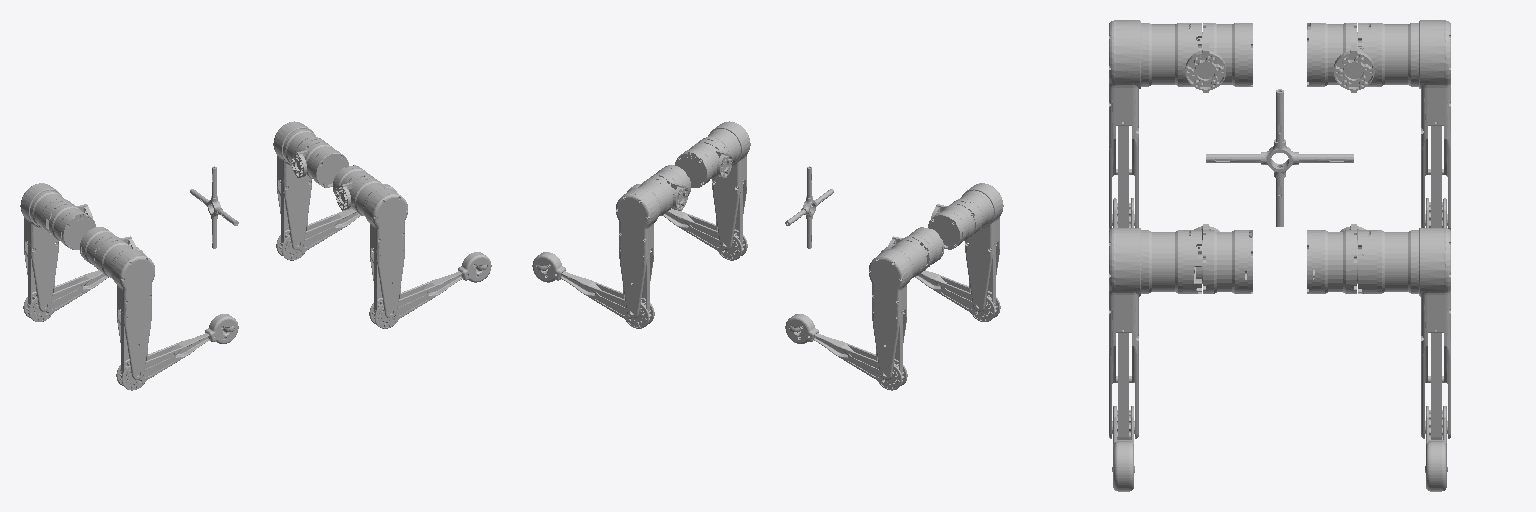
URDF robot description (CatModel2):
<?xml version="1.0" ?>

<robot name="CatModel2">

<mujoco>
    <compiler discardvisual="false"/>
</mujoco>

  <link name="cross">
    <inertial>
      <origin rpy="0 0 0" xyz="0 0 0"/>
      <mass value="0.10303"/>
      <inertia ixx="130343.98E-09" ixy="0.00" ixz="0.00" iyy="65743.25E-09" iyz="0.00" izz="65743.25E-09"/>
    </inertial>
    <visual>
      <origin rpy="0 0 0" xyz="0 0 0"/>
      <geometry>
        <mesh filename="package://CatModel2_description/meshes/cross.STL"/>
      </geometry>
      <material name="">
        <color rgba="0.752941176470588 0.752941176470588 0.752941176470588 1"/>
      </material>
    </visual>
    <collision>
      <origin rpy="0 0 0" xyz="0 0 0"/>
      <geometry>
        <box size="0.011 0.03 0.13"/>
      </geometry>
    </collision>
    <collision>
      <origin rpy="1.5707963267948966 0 0" xyz="0 0 0"/>
      <geometry>
        <box size="0.011 0.03 0.13"/>
      </geometry>
    </collision>    
  </link>
  
  <link name="chest">
    <inertial>
      <origin rpy="0 0 0" xyz="110.71E-03 0.08E-03 -0.04E-03"/>
      <mass value="2.10511"/>
      <inertia ixx="8222410.49E-09" ixy="1816.97E-09" ixz="7419.74E-09" iyy="8511204.33E-09" iyz="-757.05E-09" izz="11159274.40E-09"/>
    </inertial>
    <visual>
      <origin rpy="0 0 0" xyz="0 0 0"/>
      <geometry>
        <mesh filename="package://CatModel2_description/meshes/chest.STL"/>
      </geometry>
      <material name="">
        <color rgba="0.752941176470588 0.752941176470588 0.752941176470588 1"/>
      </material>
    </visual>
    <collision>
      <origin rpy="0 0 0" xyz="0.12 0 0"/>
      <geometry>
        <box size="0.128 0.195 0.148"/>
      </geometry>
    </collision>
  </link>
  
  <joint name="Base_joint" type="revolute">
    <origin rpy="0 0 0" xyz="0 0 0"/>
    <parent link="cross"/>
    <child link="chest"/>
    <axis xyz="0 0 1"/>
    <!-- <dynamics damping="0.1" friction="0.1"/> -->
    <limit effort="100" lower="-0.75" upper="0.75" velocity="18"/>
  </joint>

  <link name="LF_hip">
    <inertial>
      <origin rpy="0 0 0" xyz="-3.06E-03 -15.19E-03 0.23E-03"/>
      <mass value="0.31877"/>
      <inertia ixx="150729.95E-09" ixy="-14678.35E-09" ixz="-199.51E-09" iyy="169042.16E-09" iyz="1282.75E-09" izz="175802.90E-09"/>
    </inertial>
    <visual>
      <origin rpy="0 0 0" xyz="0 0 0"/>
      <geometry>
        <mesh filename="package://CatModel2_description/meshes/LF_hip.STL"/>
      </geometry>
      <material name="">
        <color rgba="0.752941176470588 0.752941176470588 0.752941176470588 1"/>
      </material>
    </visual>
    <!-- <collision>
      <origin rpy="1.5707963267948966 0 0" xyz="0 -0.01 0"/>
      <geometry>
        <cylinder length="0.07" radius="0.028"/>
      </geometry>
    </collision> -->
  </link>
  <joint name="LF_HAA" type="revolute">
    <origin rpy="0 0 0" xyz="0.215 0.0649999999999998 0"/>
    <parent link="chest"/>
    <child link="LF_hip"/>
    <axis xyz="1 0 0"/>
    <limit effort="33.5" lower="-0.785" upper="0.785" velocity="18"/>
  </joint>
  <link name="LF_thigh">
    <inertial>
      <origin rpy="0 0 0" xyz="-0.02E-03 -23.50E-03 -19.36E-03"/>
      <mass value="0.57287"/>
      <inertia ixx="1472878.77E-09" ixy="197.96E-09" ixz="237.97E-09" iyy="1312622.06E-09" iyz="260046.65E-09" izz="443726.89E-09"/>
    </inertial>
    <visual>
      <origin rpy="0 0 0" xyz="0 0 0"/>
      <geometry>
        <mesh filename="package://CatModel2_description/meshes/LF_thigh.STL"/>
      </geometry>
      <material name="">
        <color rgba="0.752941176470588 0.752941176470588 0.752941176470588 1"/>
      </material>
    </visual>
    <!-- <collision>
      <origin rpy="0 1.5707963267948966 0" xyz="0 0 -0.07"/>
      <geometry>
        <box size="0.18 0.025 0.03"/>
      </geometry>
    </collision>
    <collision>
      <origin rpy="1.5707963267948966 0 0" xyz="0 -0.015 0"/>
      <geometry>
        <cylinder length="0.053" radius="0.028"/>
      </geometry>
    </collision> -->
  </link>
  <joint name="LF_HFE" type="revolute">
    <origin rpy="0 0 0" xyz="0 0.072 0"/>
    <parent link="LF_hip"/>
    <child link="LF_thigh"/>
    <axis xyz="0 1 0"/>
    <limit effort="33.5" lower="-1.05" upper="3.14" velocity="18"/>
  </joint>
  <link name="LF_calf">
    <inertial>
      <origin rpy="0 0 0" xyz="0.0 0.0 -65.28E-03"/>
      <mass value="0.09192"/>
      <inertia ixx="414588.70E-09" ixy="0.00" ixz="0.00E-09" iyy="418880.65E-09" iyz="18.08E-09" izz="10670.32E-09"/>
    </inertial>
    <visual>
      <origin rpy="0 0 0" xyz="0 0 0"/>
      <geometry>
        <mesh filename="package://CatModel2_description/meshes/LF_calf.STL"/>
      </geometry>
      <material name="">
        <color rgba="0.752941176470588 0.752941176470588 0.752941176470588 1"/>
      </material>
    </visual>
    <collision>
      <origin rpy="0 1.5707963267948966 0" xyz="0.0 0 -0.05"/>
      <geometry>
        <box size="0.14 0.018 0.025"/>
      </geometry>
    </collision>
  </link>
  <joint name="LF_KFE" type="revolute">
    <origin rpy="0 0 0" xyz="0 0 -0.164"/>
    <parent link="LF_thigh"/>
    <child link="LF_calf"/>
    <axis xyz="0 1 0"/>
    <limit effort="33.5" lower="-2.70" upper="-0.92" velocity="18"/>
  </joint>
  <link name="LF_FOOT">
    <visual>
      <origin rpy="0 0 0" xyz="0 0 0"/>
      <geometry>
        <sphere radius="0.01"/>
      </geometry>
      <material name="">
        <color rgba="0.752941176470588 0.752941176470588 0.752941176470588 1"/>
      </material>
    </visual>
    <collision>
      <origin rpy="0 0 0" xyz="0 0 0.01"/>
      <geometry>
        <sphere radius="0.02"/>
      </geometry>
    </collision>
    <inertial>
      <mass value="0.06"/>
      <inertia ixx="9.600000000000001e-06" ixy="0.0" ixz="0.0" iyy="9.600000000000001e-06" iyz="0.0" izz="9.600000000000001e-06"/>
    </inertial>
  </link>
  <joint name="LF_foot_fixed" type="fixed">
    <origin rpy="0 0 0" xyz="-0.001 0 -0.165"/>
    <parent link="LF_calf"/>
    <child link="LF_FOOT"/>
  </joint>
  <link name="RF_hip">
    <inertial>
      <origin rpy="0 0 0" xyz="-3.06E-03 15.19E-03 -0.23E-03"/>
      <mass value="0.31877"/>
      <inertia ixx="150729.95E-09" ixy="-14678.35E-09" ixz="199.51E-09" iyy="169042.16E-09" iyz="1285.75E-09" izz="175802.90E-09"/>
    </inertial>
    <visual>
      <origin rpy="0 0 0" xyz="0 0 0"/>
      <geometry>
        <mesh filename="package://CatModel2_description/meshes/RF_hip.STL"/>
      </geometry>
      <material name="">
        <color rgba="0.752941176470588 0.752941176470588 0.752941176470588 1"/>
      </material>
    </visual>
    <!-- <collision>
      <origin rpy="1.5707963267948966 0 0" xyz="0 0.01 0"/>
      <geometry>
        <cylinder length="0.07" radius="0.028"/>
      </geometry>
    </collision> -->
  </link>
  <joint name="RF_HAA" type="revolute">
    <origin rpy="0 0 0" xyz="0.215 -0.0650000000000001 0"/>
    <parent link="chest"/>
    <child link="RF_hip"/>
    <axis xyz="1 0 0"/>
    <limit effort="33.5" lower="-0.785" upper="0.785" velocity="18"/>
  </joint>
  <link name="RF_thigh">
    <inertial>
      <origin rpy="0 0 0" xyz="0.02E-03 23.50E-03 -19.36E-03"/>
      <mass value="0.57287"/>
      <inertia ixx="1472878.77E-09" ixy="197.96E-09" ixz="-237.91E-09" iyy="1312622.06E-09" iyz="-260046.65E-09" izz="443726.89E-09"/>
    </inertial>
    <visual>
      <origin rpy="0 0 0" xyz="0 0 0"/>
      <geometry>
        <mesh filename="package://CatModel2_description/meshes/RF_thigh.STL"/>
      </geometry>
      <material name="">
        <color rgba="0.752941176470588 0.752941176470588 0.752941176470588 1"/>
      </material>
    </visual>
    <!-- <collision>
      <origin rpy="0 1.5707963267948966 0" xyz="0 0 -0.07"/>
      <geometry>
        <box size="0.18 0.025 0.03"/>
      </geometry>
    </collision>
    <collision>
      <origin rpy="1.5707963267948966 0 0" xyz="0 0.015 0"/>
      <geometry>
        <cylinder length="0.053" radius="0.028"/>
      </geometry>
    </collision> -->
  </link>
  <joint name="RF_HFE" type="revolute">
    <origin rpy="0 0 0" xyz="0 -0.072 0"/>
    <parent link="RF_hip"/>
    <child link="RF_thigh"/>
    <axis xyz="0 1 0"/>
    <limit effort="33.5" lower="-1.05" upper="3.14" velocity="18"/>
  </joint>
  <link name="RF_calf">
    <inertial>
      <origin rpy="0 0 0" xyz="0.0 0.0 -65.28E-03"/>
      <mass value="0.09192"/>
      <inertia ixx="414588.70E-09" ixy="0.00" ixz="0.00E-09" iyy="418880.65E-09" iyz="-18.08E-09" izz="10670.32E-09"/>
    </inertial>
    <visual>
      <origin rpy="0 0 0" xyz="0 0 0"/>
      <geometry>
        <mesh filename="package://CatModel2_description/meshes/RF_calf.STL"/>
      </geometry>
      <material name="">
        <color rgba="0.752941176470588 0.752941176470588 0.752941176470588 1"/>
      </material>
    </visual>
    <collision>
      <origin rpy="0 1.5707963267948966 0" xyz="0.0 0 -0.05"/>
      <geometry>
        <box size="0.14 0.018 0.025"/>
      </geometry>
    </collision>
  </link>
  <joint name="RF_KFE" type="revolute">
    <origin rpy="0 0 0" xyz="0 0 -0.164"/>
    <parent link="RF_thigh"/>
    <child link="RF_calf"/>
    <axis xyz="0 1 0"/>
    <limit effort="33.5" lower="-2.70" upper="-0.92" velocity="18"/>
  </joint>
  <link name="RF_FOOT">
    <visual>
      <origin rpy="0 0 0" xyz="0 0 0"/>
      <geometry>
        <sphere radius="0.01"/>
      </geometry>
      <material name="">
        <color rgba="0.752941176470588 0.752941176470588 0.752941176470588 1"/>
      </material>
    </visual>
    <collision>
      <origin rpy="0 0 0" xyz="0 0 0.01"/>
      <geometry>
        <sphere radius="0.02"/>
      </geometry>
    </collision>
    <inertial>
      <mass value="0.06"/>
      <inertia ixx="9.600000000000001e-06" ixy="0.0" ixz="0.0" iyy="9.600000000000001e-06" iyz="0.0" izz="9.600000000000001e-06"/>
    </inertial>
  </link>
  <joint name="RF_foot_fixed" type="fixed">
    <origin rpy="0 0 0" xyz="-0.001 0 -0.165"/>
    <parent link="RF_calf"/>
    <child link="RF_FOOT"/>
  </joint>

    <link name="base">
    <inertial>
      <origin rpy="0 0 0" xyz="-110.92E-03 0.01E-03 -0.04E-03"/>
      <mass value="2.09468"/>
      <inertia ixx="8220668.86E-09" ixy="102.56E-09" ixz="-7414.23E-09" iyy="7271012.52E-09" iyz="-34.10E-09" izz="12352941.58E-09"/>
    </inertial>
    <visual>
      <origin rpy="0 0 0" xyz="0 0 0"/>
      <geometry>
        <mesh filename="package://CatModel2_description/meshes/base.STL"/>
      </geometry>
      <material name="">
        <color rgba="0.752941176470588 0.752941176470588 0.752941176470588 1"/>
      </material>
    </visual>
    <collision>
      <origin rpy="0 0 0" xyz="-0.12 0 0"/>
      <geometry>
        <box size="0.128 0.195 0.148"/>
      </geometry>
    </collision>
  </link>

  <joint name="Chest_joint" type="revolute">
    <origin rpy="0 0 0" xyz="0 0 0"/>
    <parent link="cross"/>
    <child link="base"/>
    <axis xyz="0 -1 0"/>
    <!-- <dynamics damping="0.1" friction="0.1"/> -->
    <limit effort="100" lower="-0.75" upper="0.75" velocity="18"/>
  </joint>
  
  <link name="LH_hip">
    <inertial>
      <origin rpy="0 0 0" xyz="-3.06E-03 -15.19E-03 0.23E-03"/>
      <mass value="0.31877"/>
      <inertia ixx="150729.95E-09" ixy="14678.35E-09" ixz="-199.51E-09" iyy="169042.16E-09" iyz="1282.75E-09" izz="175802.90E-09"/>
    </inertial>
    <visual>
      <origin rpy="0 0 0" xyz="0 0 0"/>
      <geometry>
        <mesh filename="package://CatModel2_description/meshes/LH_hip.STL"/>
      </geometry>
      <material name="">
        <color rgba="0.752941176470588 0.752941176470588 0.752941176470588 1"/>
      </material>
    </visual>
    <!-- <collision>
      <origin rpy="1.5707963267948966 0 0" xyz="0 -0.01 0"/>
      <geometry>
        <cylinder length="0.07" radius="0.028"/>
      </geometry>
    </collision> -->
  </link>
  <joint name="LH_HAA" type="revolute">
    <origin rpy="0 0 0" xyz="-0.215 0.0650000000000001 0"/>
    <parent link="base"/>
    <child link="LH_hip"/>
    <axis xyz="1 0 0"/>
    <limit effort="33.5" lower="-0.785" upper="0.785" velocity="18"/>
  </joint>
  <link name="LH_thigh">
    <inertial>
      <origin rpy="0 0 0" xyz="-0.02E-03 -23.50E-03 -19.36E-03"/>
      <mass value="0.57287"/>
      <!-- <inertia ixx="1472878.77E-09" ixy="197.96E-09" ixz="-237.97E-09" iyy="1312622.06E-09" iyz="-260046.65E-09" izz="443726.89E-09"/> -->
      <inertia ixx="1472878.77E-09" ixy="197.96E-09" ixz="237.97E-09" iyy="1312622.06E-09" iyz="260046.65E-09" izz="443726.89E-09"/>
    </inertial>
    <visual>
      <origin rpy="0 0 0" xyz="0 0 0"/>
      <geometry>
        <mesh filename="package://CatModel2_description/meshes/LH_thigh.STL"/>
      </geometry>
      <material name="">
        <color rgba="0.752941176470588 0.752941176470588 0.752941176470588 1"/>
      </material>
    </visual>
    <!-- <collision>
      <origin rpy="0 1.5707963267948966 0" xyz="0 0 -0.07"/>
      <geometry>
        <box size="0.18 0.025 0.03"/>
      </geometry>
    </collision>
    <collision>
      <origin rpy="1.5707963267948966 0 0" xyz="0 -0.015 0"/>
      <geometry>
        <cylinder length="0.053" radius="0.028"/>
      </geometry>
    </collision> -->
  </link>
  <joint name="LH_HFE" type="revolute">
    <origin rpy="0 0 0" xyz="0 0.072 0"/>
    <parent link="LH_hip"/>
    <child link="LH_thigh"/>
    <axis xyz="0 1 0"/>
    <limit effort="33.5" lower="-1.05" upper="3.14" velocity="18"/>
  </joint>
  <link name="LH_calf">
    <inertial>
      <origin rpy="0 0 0" xyz="0.0 0.0 -65.28E-03"/>
      <mass value="0.09192"/>
      <inertia ixx="414588.70E-09" ixy="0.00" ixz="0.00" iyy="418880.65E-09" iyz="-18.08E-09" izz="10670.32E-09"/>
    </inertial>
    <visual>
      <origin rpy="0 0 0" xyz="0 0 0"/>
      <geometry>
        <mesh filename="package://CatModel2_description/meshes/LH_calf.STL"/>
      </geometry>
      <material name="">
        <color rgba="0.752941176470588 0.752941176470588 0.752941176470588 1"/>
      </material>
    </visual>
    <collision>
      <origin rpy="0 1.5707963267948966 0" xyz="0.0 0 -0.05"/>
      <geometry>
        <box size="0.14 0.018 0.025"/>
      </geometry>
    </collision>
  </link>
  <joint name="LH_KFE" type="revolute">
    <origin rpy="0 0 0" xyz="0 0 -0.164"/>
    <parent link="LH_thigh"/>
    <child link="LH_calf"/>
    <axis xyz="0 1 0"/>
    <limit effort="33.5" lower="-2.70" upper="-0.92" velocity="18"/>
  </joint>
  <link name="LH_FOOT">
    <visual>
      <origin rpy="0 0 0" xyz="0 0 0"/>
      <geometry>
        <sphere radius="0.01"/>
      </geometry>
      <material name="">
        <color rgba="0.752941176470588 0.752941176470588 0.752941176470588 1"/>
      </material>
    </visual>
    <collision>
      <origin rpy="0 0 0" xyz="0 0 0.01"/>
      <geometry>
        <sphere radius="0.02"/>
      </geometry>
    </collision>
    <inertial>
      <mass value="0.06"/>
      <inertia ixx="9.600000000000001e-06" ixy="0.0" ixz="0.0" iyy="9.600000000000001e-06" iyz="0.0" izz="9.600000000000001e-06"/>
    </inertial>
  </link>
  <joint name="LH_foot_fixed" type="fixed">
    <origin rpy="0 0 0" xyz="-0.001 0 -0.165"/>
    <parent link="LH_calf"/>
    <child link="LH_FOOT"/>
  </joint>
  <link name="RH_hip">
    <inertial>
      <origin rpy="0 0 0" xyz="3.06E-03 15.19E-03 0.23E-03"/>
      <mass value="0.31877"/>
      <inertia ixx="150729.95E-09" ixy="14678.35E-09" ixz="199.51E-09" iyy="169042.16E-09" iyz="-1282.75E-09" izz="175802.90E-09"/>
    </inertial>
    <visual>
      <origin rpy="0 0 0" xyz="0 0 0"/>
      <geometry>
        <mesh filename="package://CatModel2_description/meshes/RH_hip.STL"/>
      </geometry>
      <material name="">
        <color rgba="0.752941176470588 0.752941176470588 0.752941176470588 1"/>
      </material>
    </visual>
    <!-- <collision>
      <origin rpy="1.5707963267948966 0 0" xyz="0 0.01 0"/>
      <geometry>
        <cylinder length="0.07" radius="0.028"/>
      </geometry>
    </collision> -->
  </link>
  <joint name="RH_HAA" type="revolute">
    <origin rpy="0 0 0" xyz="-0.215 -0.065 0"/>
    <parent link="base"/>
    <child link="RH_hip"/>
    <axis xyz="1 0 0"/>
    <limit effort="33.5" lower="-0.785" upper="0.785" velocity="18"/>
  </joint>
  <link name="RH_thigh">
    <inertial>
      <origin rpy="0 0 0" xyz="0.02E-03 23.50E-03 -19.36E-03"/>
      <mass value="0.57287"/>
      <inertia ixx="1472878.77E-09" ixy="197.96E-09" ixz="-237.97E-09" iyy="1312622.06e-09" iyz="-260046.65E-09" izz="443726.89E-09"/>
    </inertial>
    <visual>
      <origin rpy="0 0 0" xyz="0 0 0"/>
      <geometry>
        <mesh filename="package://CatModel2_description/meshes/RH_thigh.STL"/>
      </geometry>
      <material name="">
        <color rgba="0.752941176470588 0.752941176470588 0.752941176470588 1"/>
      </material>
    </visual>
    <!-- <collision>
      <origin rpy="0 1.5707963267948966 0" xyz="0 0 -0.07"/>
      <geometry>
        <box size="0.18 0.025 0.03"/>
      </geometry>
    </collision>
    <collision>
      <origin rpy="1.5707963267948966 0 0" xyz="0 0.015 0"/>
      <geometry>
        <cylinder length="0.053" radius="0.028"/>
      </geometry>
    </collision> -->
  </link>
  <joint name="RH_HFE" type="revolute">
    <origin rpy="0 0 0" xyz="0 -0.072 0"/>
    <parent link="RH_hip"/>
    <child link="RH_thigh"/>
    <axis xyz="0 1 0"/>
    <limit effort="33.5" lower="-1.05" upper="3.14" velocity="18"/>
  </joint>
  <link name="RH_calf">
    <inertial>
      <origin rpy="0 0 0" xyz="0.0 0.0 -65.28E-03"/>
      <mass value="0.09192"/>
      <inertia ixx="414588.70E-09" ixy="0.00" ixz="0.00" iyy="418880.65E-09" iyz="-18.08E-09" izz="10670.32E-09"/>
    </inertial>
    <visual>
      <origin rpy="0 0 0" xyz="0 0 0"/>
      <geometry>
        <mesh filename="package://CatModel2_description/meshes/RH_calf.STL"/>
      </geometry>
      <material name="">
        <color rgba="0.752941176470588 0.752941176470588 0.752941176470588 1"/>
      </material>
    </visual>
    <collision>
      <origin rpy="0 1.5707963267948966 0" xyz="0.0 0 -0.05"/>
      <geometry>
        <box size="0.14 0.018 0.025"/>
      </geometry>
    </collision>
  </link>
  <joint name="RH_KFE" type="revolute">
    <origin rpy="0 0 0" xyz="0 0 -0.164"/>
    <parent link="RH_thigh"/>
    <child link="RH_calf"/>
    <axis xyz="0 1 0"/>
    <limit effort="33.5" lower="-2.70" upper="-0.92" velocity="18"/>
  </joint>
  <link name="RH_FOOT">
    <visual>
      <origin rpy="0 0 0" xyz="0 0 0"/>
      <geometry>
        <sphere radius="0.01"/>
      </geometry>
      <material name="">
        <color rgba="0.752941176470588 0.752941176470588 0.752941176470588 1"/>
      </material>
    </visual>
    <collision>
      <origin rpy="0 0 0" xyz="0 0 0.01"/>
      <geometry>
        <sphere radius="0.02"/>
      </geometry>
    </collision>
    <inertial>
      <mass value="0.06"/>
      <inertia ixx="9.600000000000001e-06" ixy="0.0" ixz="0.0" iyy="9.600000000000001e-06" iyz="0.0" izz="9.600000000000001e-06"/>
    </inertial>
  </link>
  <joint name="RH_foot_fixed" type="fixed">
    <origin rpy="0 0 0" xyz="-0.001 0 -0.165"/>
    <parent link="RH_calf"/>
    <child link="RH_FOOT"/>
  </joint>

</robot>

--- Facts derived from the render (not from the file) ---
Views: 3 orthographic renders of the robot side by side, from view 1: azimuth 30°, elevation 25°; view 2: azimuth 150°, elevation 25°; view 3: azimuth 270°, elevation 25°.
Model CatModel2 with 19 links and 18 joints (14 revolute, 4 fixed), rooted at cross, posed all joints at 0 but 4 set to mid-range because 0 is outside their limits (LF_KFE = -1.81, RF_KFE = -1.81, LH_KFE = -1.81, RH_KFE = -1.81).
Visible links, largest first — view 1: RH_thigh, RF_thigh, LH_thigh, LF_thigh, RF_calf, RH_calf, LF_hip, LF_calf, LH_calf, LH_hip, RF_hip, RH_hip (+1 smaller); view 2: LH_thigh, LF_thigh, RH_thigh, RF_thigh, LF_calf, LH_calf, RF_hip, RF_calf, RH_calf, RH_hip, LF_hip, LH_hip (+1 smaller); view 3: LF_thigh, RF_thigh, RH_thigh, LH_thigh, LH_hip, RH_hip, RF_hip, LF_hip, cross, LF_calf, RF_calf.
Link boxes in pixels (x1=…): RH_thigh: x1=95, y1=238, x2=154, y2=379; RF_thigh: x1=349, y1=176, x2=407, y2=317; LH_thigh: x1=20, y1=183, x2=73, y2=311; LF_thigh: x1=273, y1=121, x2=327, y2=249; RF_calf: x1=369, y1=252, x2=491, y2=328; RH_calf: x1=116, y1=314, x2=238, y2=390; LF_hip: x1=291, y1=142, x2=348, y2=187; LF_calf: x1=276, y1=184, x2=396, y2=260; LH_calf: x1=23, y1=247, x2=144, y2=321; LH_hip: x1=49, y1=204, x2=95, y2=249; RF_hip: x1=333, y1=165, x2=373, y2=210; RH_hip: x1=80, y1=227, x2=136, y2=269; LH_thigh: x1=869, y1=238, x2=927, y2=379; LF_thigh: x1=616, y1=176, x2=674, y2=317; RH_thigh: x1=950, y1=183, x2=1003, y2=311; RF_thigh: x1=696, y1=121, x2=750, y2=249; LF_calf: x1=532, y1=252, x2=654, y2=328; LH_calf: x1=785, y1=314, x2=907, y2=390; RF_hip: x1=675, y1=142, x2=732, y2=187; RF_calf: x1=627, y1=184, x2=747, y2=260; RH_calf: x1=879, y1=247, x2=1000, y2=321; RH_hip: x1=928, y1=204, x2=974, y2=249; LF_hip: x1=651, y1=165, x2=690, y2=210; LH_hip: x1=887, y1=227, x2=943, y2=269; LF_thigh: x1=1358, y1=228, x2=1450, y2=439; RF_thigh: x1=1109, y1=228, x2=1201, y2=439; RH_thigh: x1=1109, y1=20, x2=1201, y2=229; LH_thigh: x1=1358, y1=20, x2=1450, y2=229; LH_hip: x1=1307, y1=23, x2=1374, y2=92; RH_hip: x1=1185, y1=23, x2=1252, y2=92; RF_hip: x1=1194, y1=224, x2=1252, y2=293; LF_hip: x1=1307, y1=224, x2=1365, y2=293; cross: x1=1206, y1=89, x2=1353, y2=226; LF_calf: x1=1426, y1=406, x2=1446, y2=491; RF_calf: x1=1113, y1=406, x2=1133, y2=491.
Bounding box of the posed robot: 0.6335 × 0.3 × 0.2519 m (x, y, z).
Meshes: 15 distinct files referenced, 13 mesh visuals loaded (13 binary STL); not drawn: 2 (reference not matched to a file when rendering).